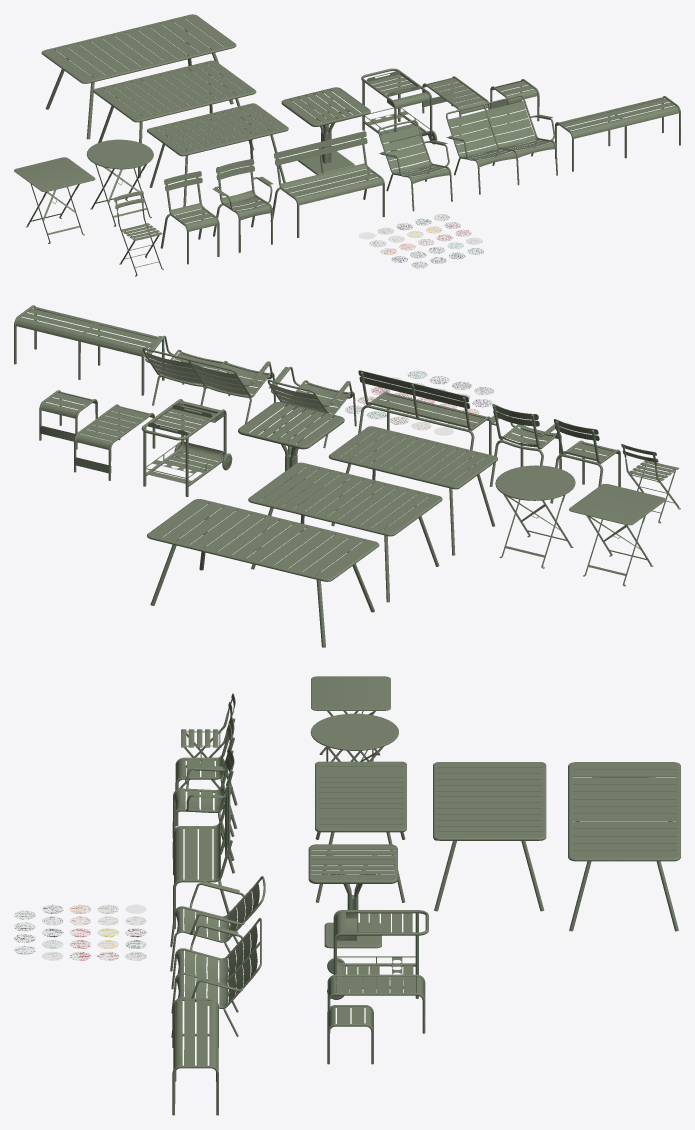
3 views of the same model, one above another, from view 1: azimuth 30°, elevation 25°; view 2: azimuth 150°, elevation 25°; view 3: azimuth 270°, elevation 25° (orthographic). The views are drawn at different scales.
Visible parts, largest first — view 1: group_6 (×2), group_7, group_2, group_5 (×5), Luxembourg_-_Banc_sans_dossier (×3), Luxembourg_-_Guéridon_80x80_cm (×2), group_3, Luxembourg_-_Desserte (×2), group_4, Luxembourg_-_Fauteuil_bas_duo (×2), Luxembourg_-_Grande_table_basse, Luxembourg_-_Fauteuil_bas (+3 smaller); view 2: group_6 (×2), group_7, group_2, group_5 (×5), Luxembourg_-_Banc_sans_dossier (×3), Luxembourg_-_Desserte (×2), group_3, group_4, Luxembourg_-_Grande_table_basse, Luxembourg_-_Guéridon_80x80_cm, Luxembourg_-_Petite_table_basse, group_1 (+3 smaller); view 3: group_6 (×2), group_7 (×2), group_2, group_5 (×3), Luxembourg_-_Banc_sans_dossier (×4), group_3, Luxembourg_-_Guéridon_80x80_cm (×2), Luxembourg_-_Desserte (×2), group_4, Luxembourg_-_Grande_table_basse, Luxembourg_-_Fauteuil_bas, Luxembourg_-_Petite_table_basse (+2 smaller).
Boxes of the visible parts, x1,y1,x2,y2 form: group_6 (×2): [41, 14, 236, 139]; group_7: [93, 60, 256, 122]; group_2: [147, 103, 288, 156]; group_5 (×5): [274, 131, 384, 237]; Luxembourg_-_Banc_sans_dossier (×3): [561, 98, 679, 138]; Luxembourg_-_Guéridon_80x80_cm (×2): [281, 87, 370, 174]; group_3: [14, 157, 95, 192]; Luxembourg_-_Desserte (×2): [361, 68, 432, 141]; group_4: [87, 139, 153, 167]; Luxembourg_-_Fauteuil_bas_duo (×2): [446, 95, 557, 193]; Luxembourg_-_Grande_table_basse: [422, 76, 490, 135]; Luxembourg_-_Fauteuil_bas: [378, 120, 452, 210]; group_6 (×2): [147, 499, 379, 647]; group_7: [248, 462, 442, 536]; group_2: [328, 426, 497, 489]; group_5 (×5): [358, 370, 491, 454]; Luxembourg_-_Banc_sans_dossier (×3): [16, 308, 155, 356]; Luxembourg_-_Desserte (×2): [141, 399, 226, 496]; group_3: [569, 484, 665, 525]; group_4: [496, 465, 574, 499]; Luxembourg_-_Grande_table_basse: [74, 404, 155, 479]; Luxembourg_-_Guéridon_80x80_cm: [238, 402, 344, 449]; Luxembourg_-_Petite_table_basse: [39, 390, 97, 448]; group_1: [555, 421, 620, 486]; group_6 (×2): [568, 762, 680, 931]; group_7 (×2): [433, 762, 546, 911]; group_2: [315, 761, 406, 832]; group_5 (×3): [173, 786, 232, 929]; Luxembourg_-_Banc_sans_dossier (×4): [173, 1000, 218, 1070]; group_3: [311, 676, 390, 710]; Luxembourg_-_Guéridon_80x80_cm (×2): [308, 844, 397, 948]; Luxembourg_-_Desserte (×2): [333, 910, 428, 998]; group_4: [311, 713, 398, 749]; Luxembourg_-_Grande_table_basse: [327, 974, 425, 1032]; Luxembourg_-_Fauteuil_bas: [170, 876, 265, 970]; Luxembourg_-_Petite_table_basse: [327, 1005, 373, 1063].
Size of the model in its own units: 308 by 236 by 35.31.
